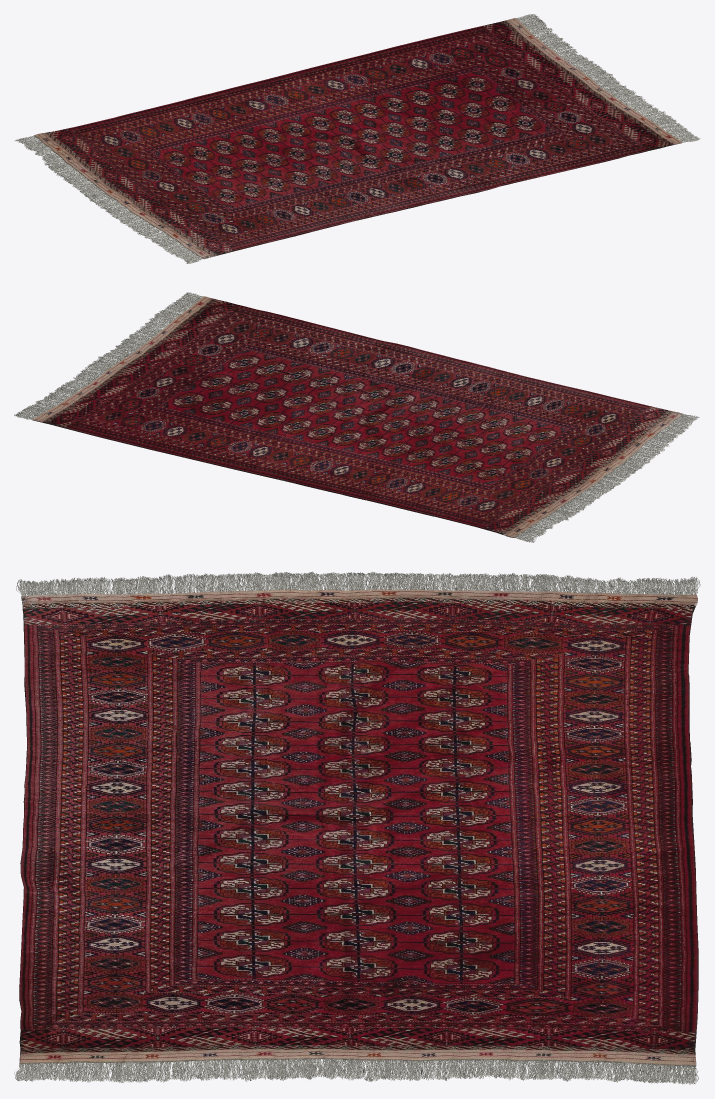
The model's file is tekeh_bukhara_carpet.glb.
3 views of the same model, one above another, from view 1: azimuth 30°, elevation 25°; view 2: azimuth 150°, elevation 25°; view 3: azimuth 270°, elevation 25° (orthographic). The views are drawn at different scales.
Visible parts, largest first — view 1: Tekeh Bukhara Carpet_2, frange2_1, frange1_0; view 2: Tekeh Bukhara Carpet_2, frange2_1, frange1_0; view 3: Tekeh Bukhara Carpet_2, frange2_1, frange1_0.
Part boxes in pixels (x1,y1,x2,y2): Tekeh Bukhara Carpet_2: [34, 18, 682, 259]; frange2_1: [516, 14, 700, 142]; frange1_0: [14, 135, 203, 263]; Tekeh Bukhara Carpet_2: [32, 296, 681, 537]; frange2_1: [14, 292, 202, 419]; frange1_0: [515, 413, 699, 542]; Tekeh Bukhara Carpet_2: [19, 589, 698, 1065]; frange2_1: [14, 1058, 698, 1084]; frange1_0: [16, 571, 700, 595].
Bounding box in the file's own units: 2.42 × 0.0107 × 1.37.
2 materials, 1 textured.
